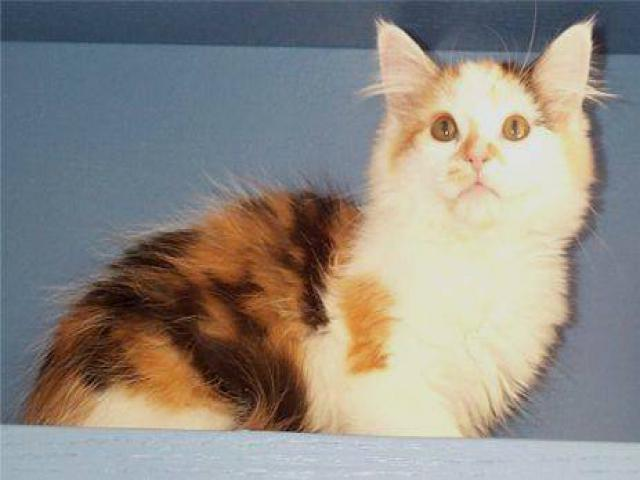cat: (24, 21, 606, 439)
